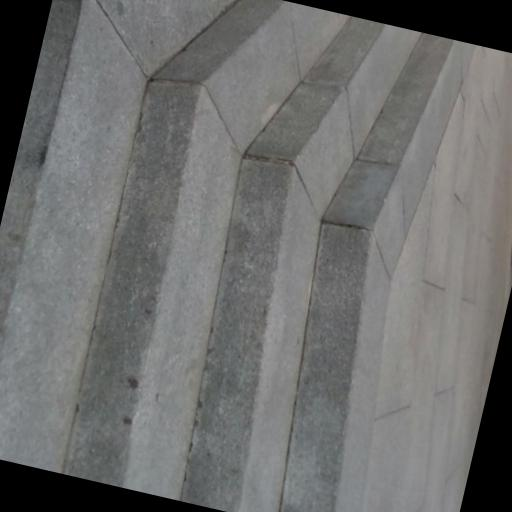stairs: (0, 0, 473, 511)
